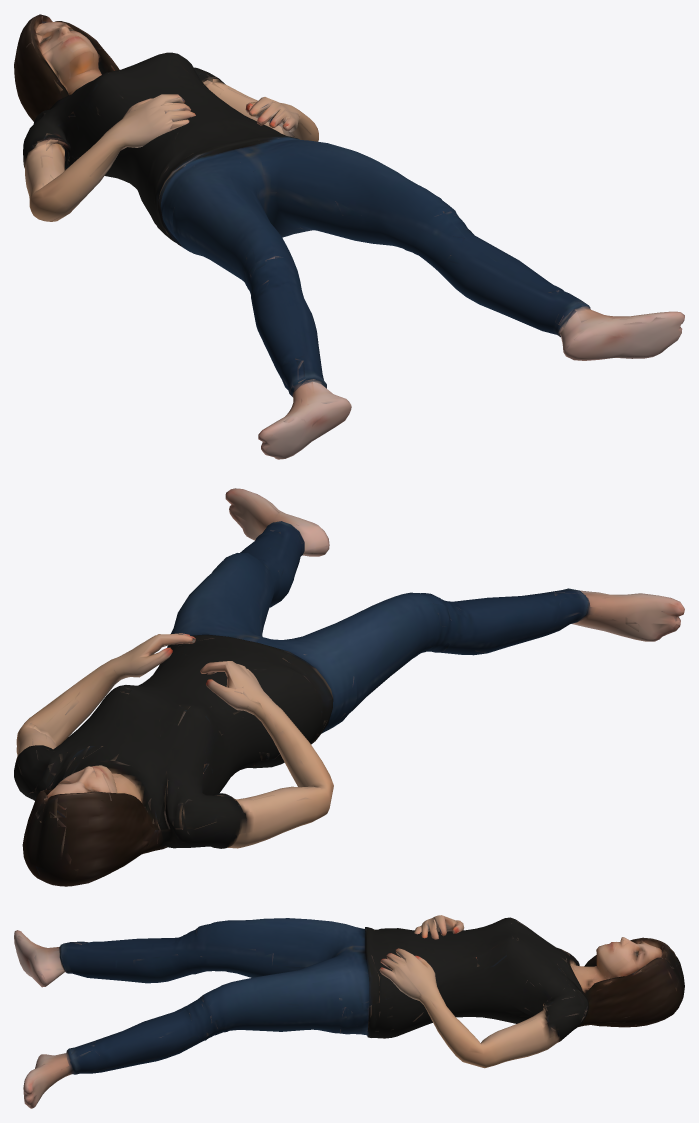
File: pingsan_idle.glb
3 renders of one model, top to bottom at view 1: azimuth 30°, elevation 25°; view 2: azimuth 150°, elevation 25°; view 3: azimuth 270°, elevation 25°, orthographic. The views are drawn at different scales.
Parts seen in each view (by area): view 1: tripo_node_25841f66; view 2: tripo_node_25841f66; view 3: tripo_node_25841f66.
Boxes of the visible parts, x1,y1,x2,y2 form: tripo_node_25841f66: (14, 14, 684, 459); tripo_node_25841f66: (14, 488, 684, 886); tripo_node_25841f66: (14, 915, 684, 1108).
Size of the model in its own units: 61.24 by 18.71 by 104.
1 material, 1 textured.
